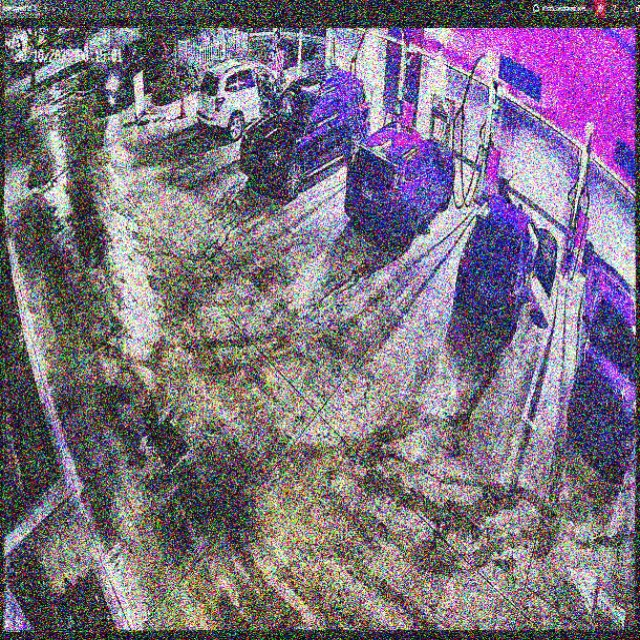Car: (243, 66, 370, 193), (342, 120, 455, 251), (453, 191, 558, 327)
